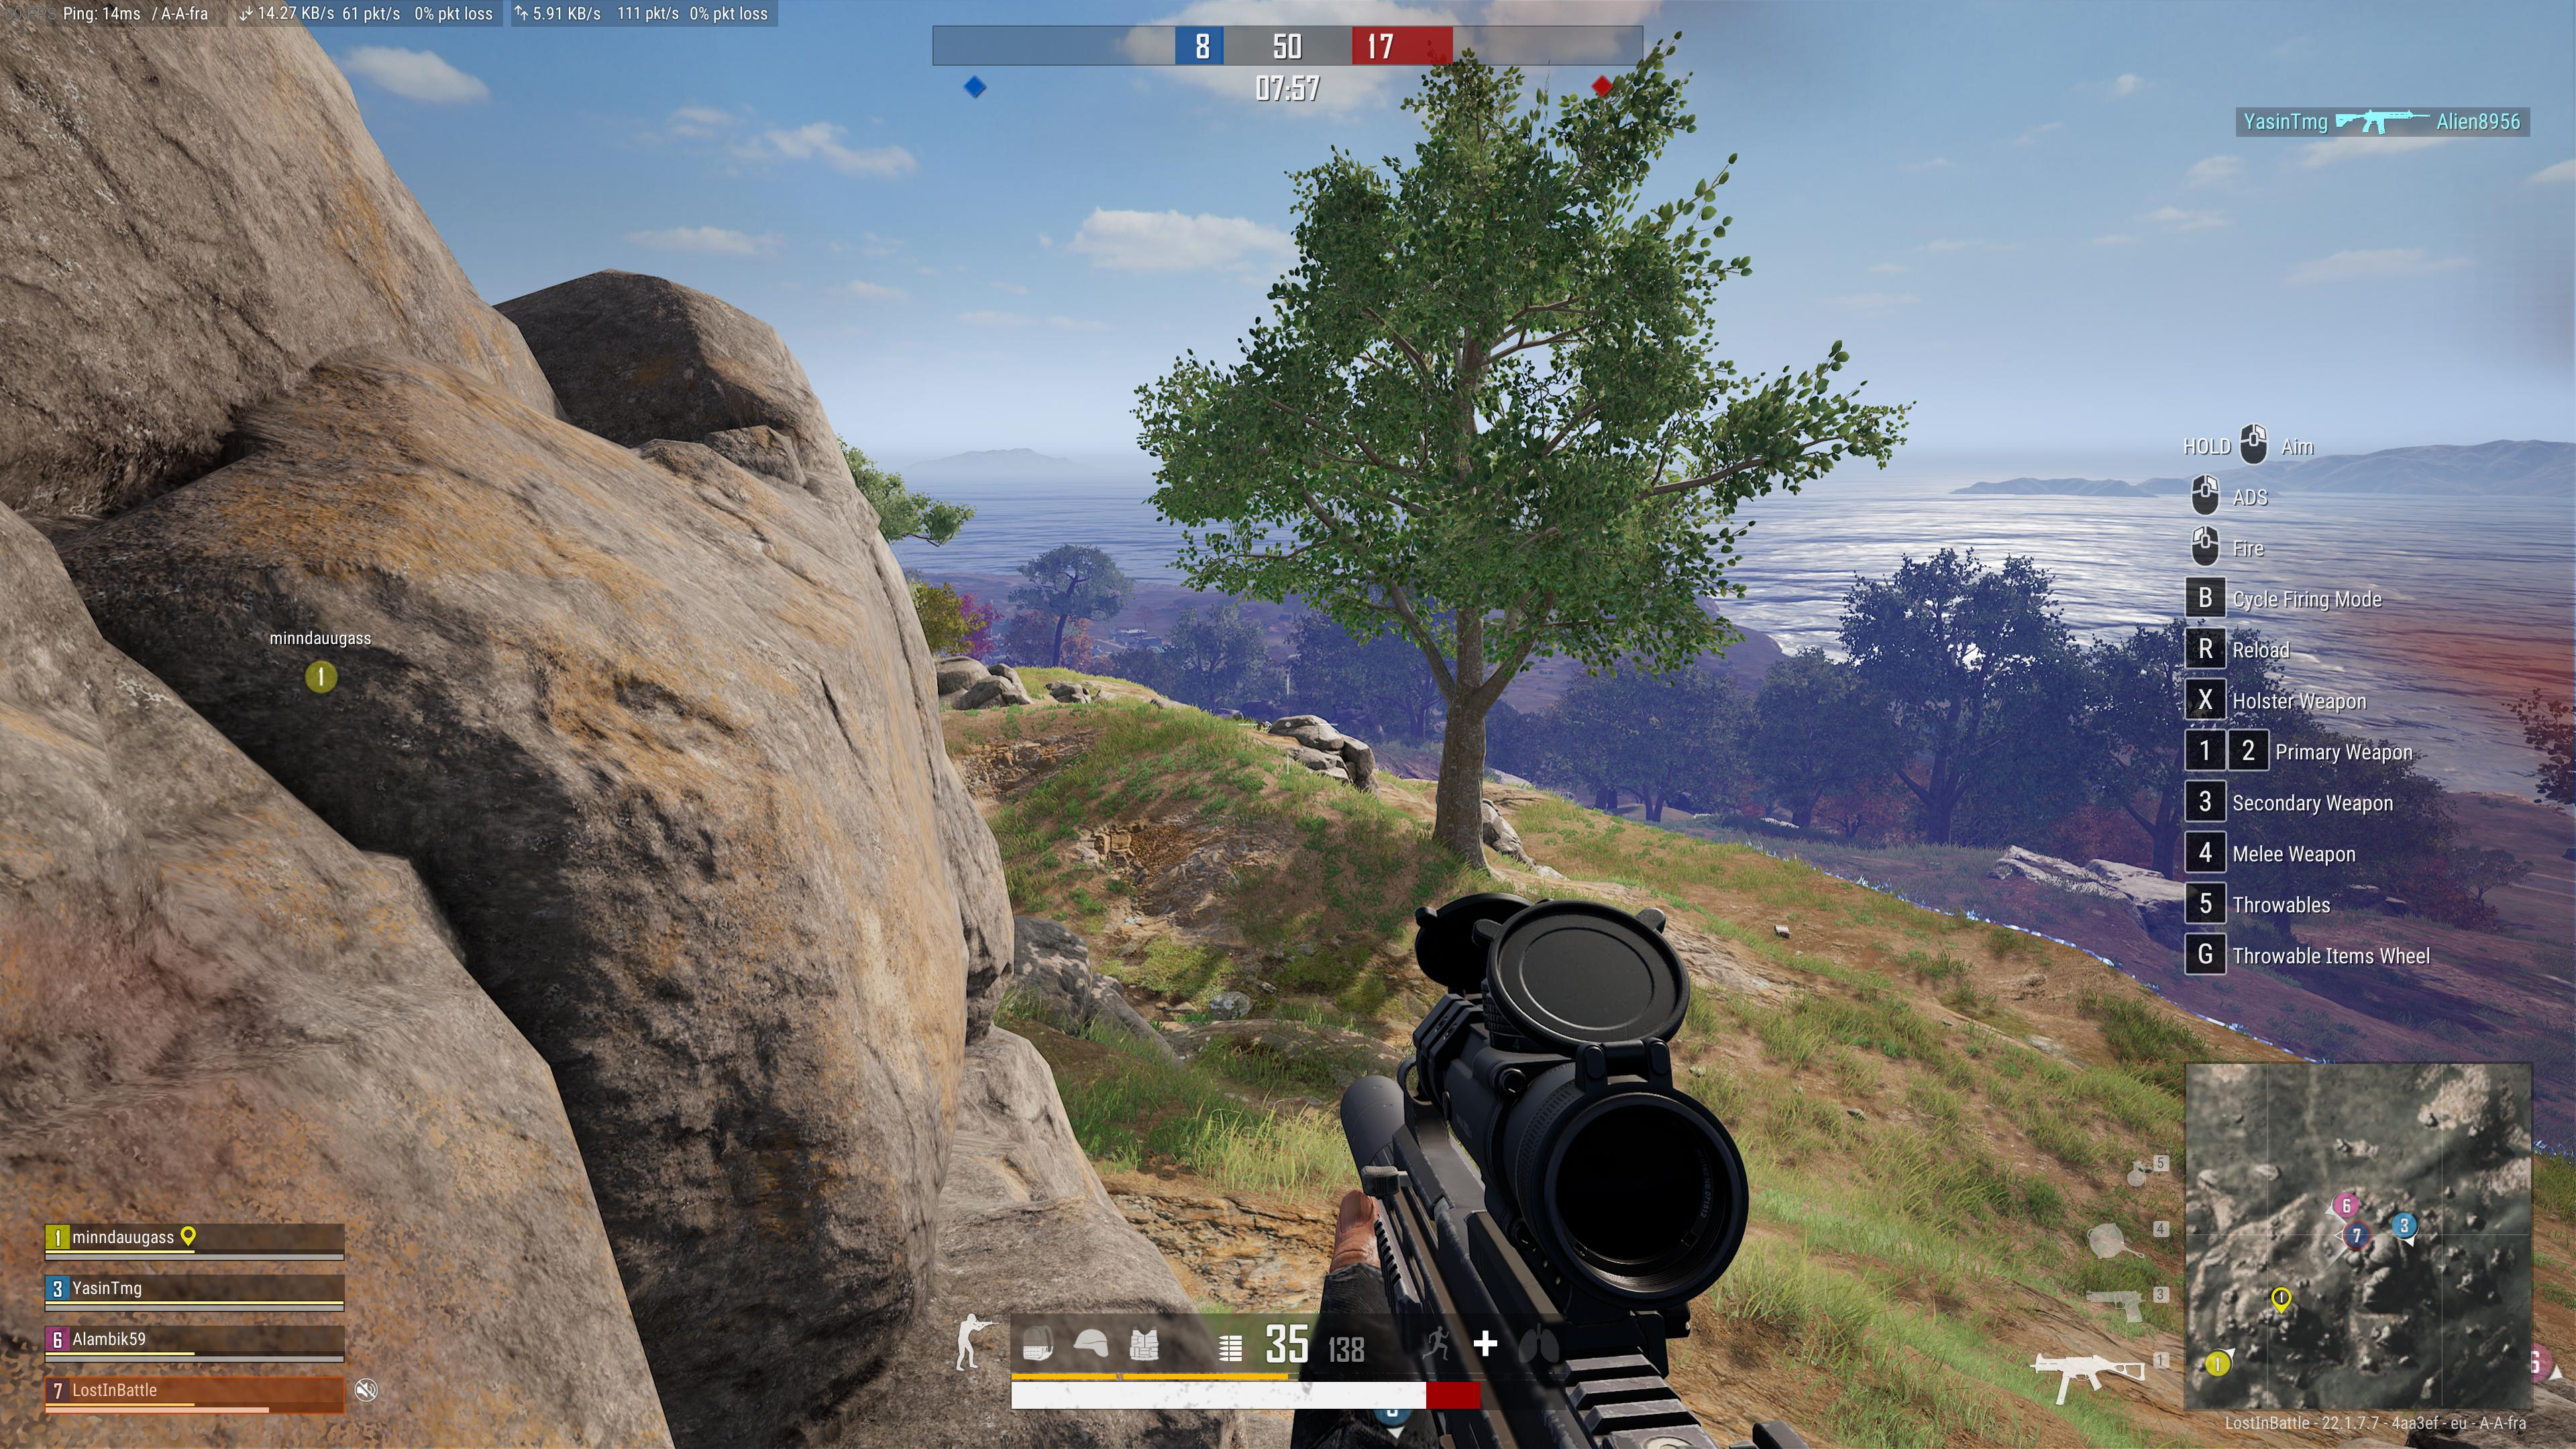enemy: (1258, 718, 1270, 731)
